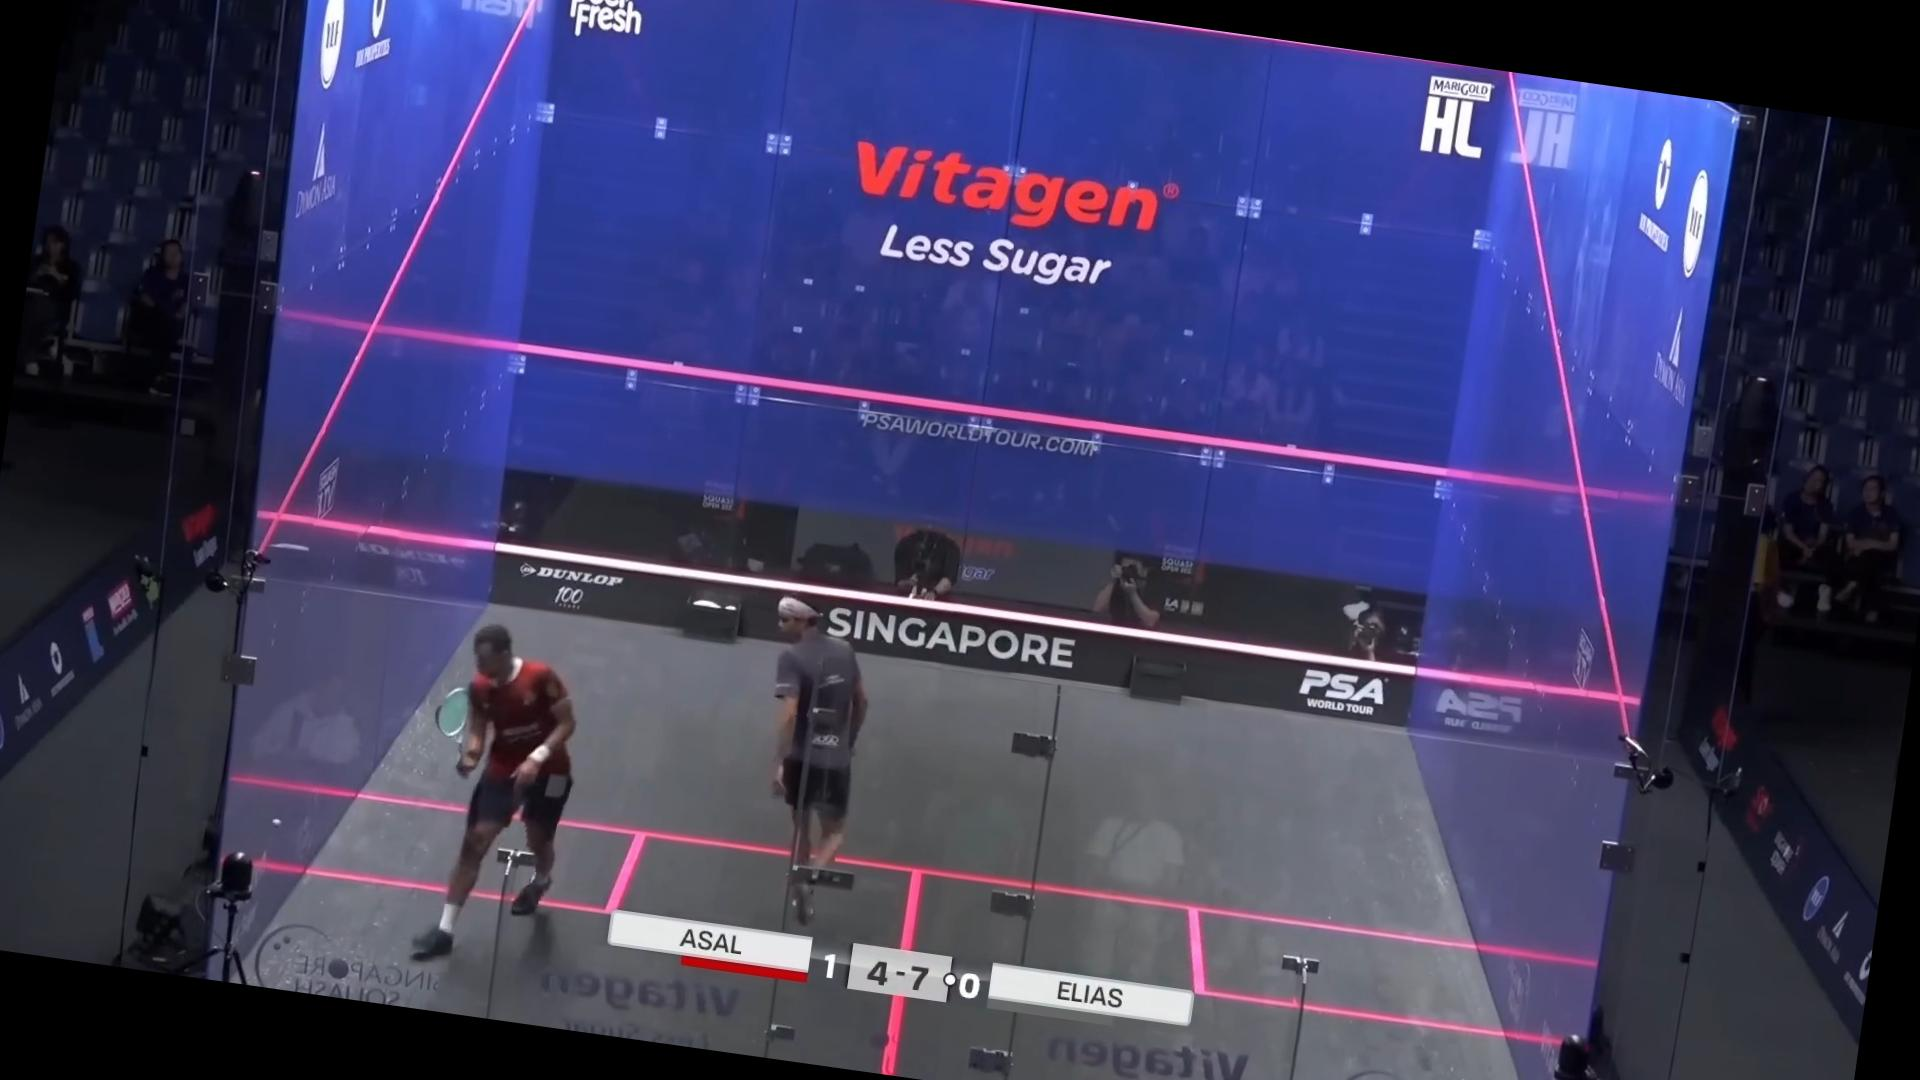Squash-Ball: (258, 807, 294, 843)
